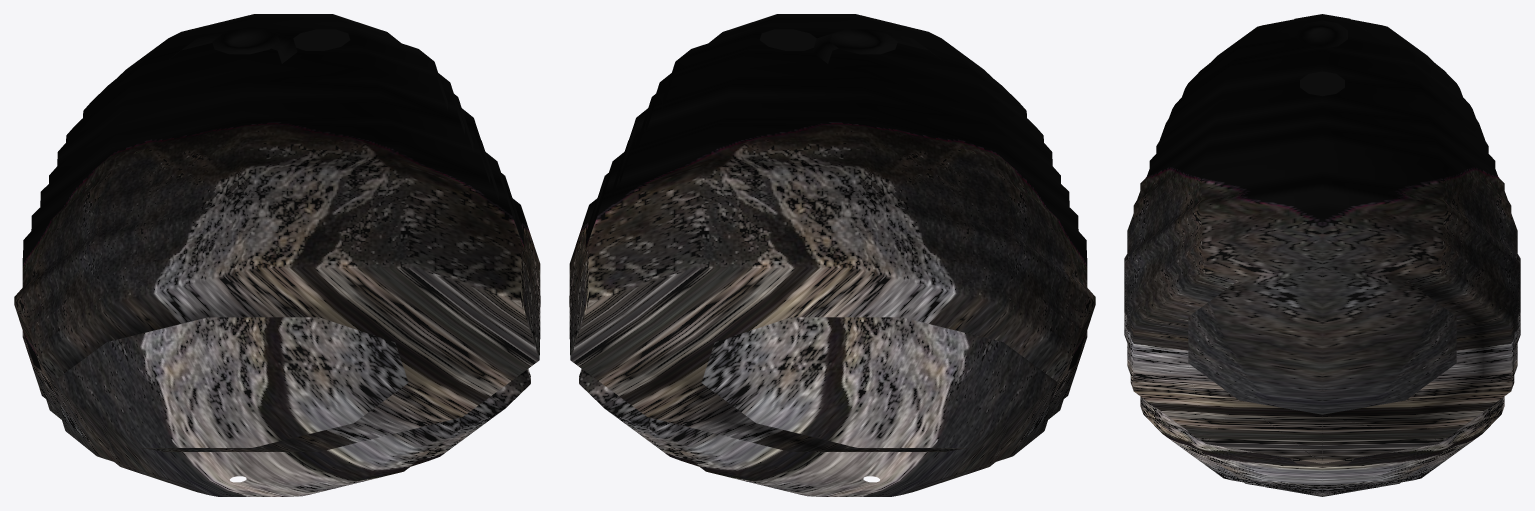
File: rock_l.glb
3 views of the same model, side by side, from view 1: azimuth 30°, elevation 25°; view 2: azimuth 150°, elevation 25°; view 3: azimuth 270°, elevation 25° (orthographic). The views are drawn at different scales.
Visible parts, largest first — view 1: solid; view 2: solid; view 3: solid.
Boxes of the visible parts, box(x1,y1,x2,y2) form: solid: box(14, 14, 540, 496); solid: box(569, 14, 1095, 496); solid: box(1124, 14, 1520, 496).
Bounding box in the file's own units: 1.17 × 1 × 0.89.
1 material, 1 textured.
